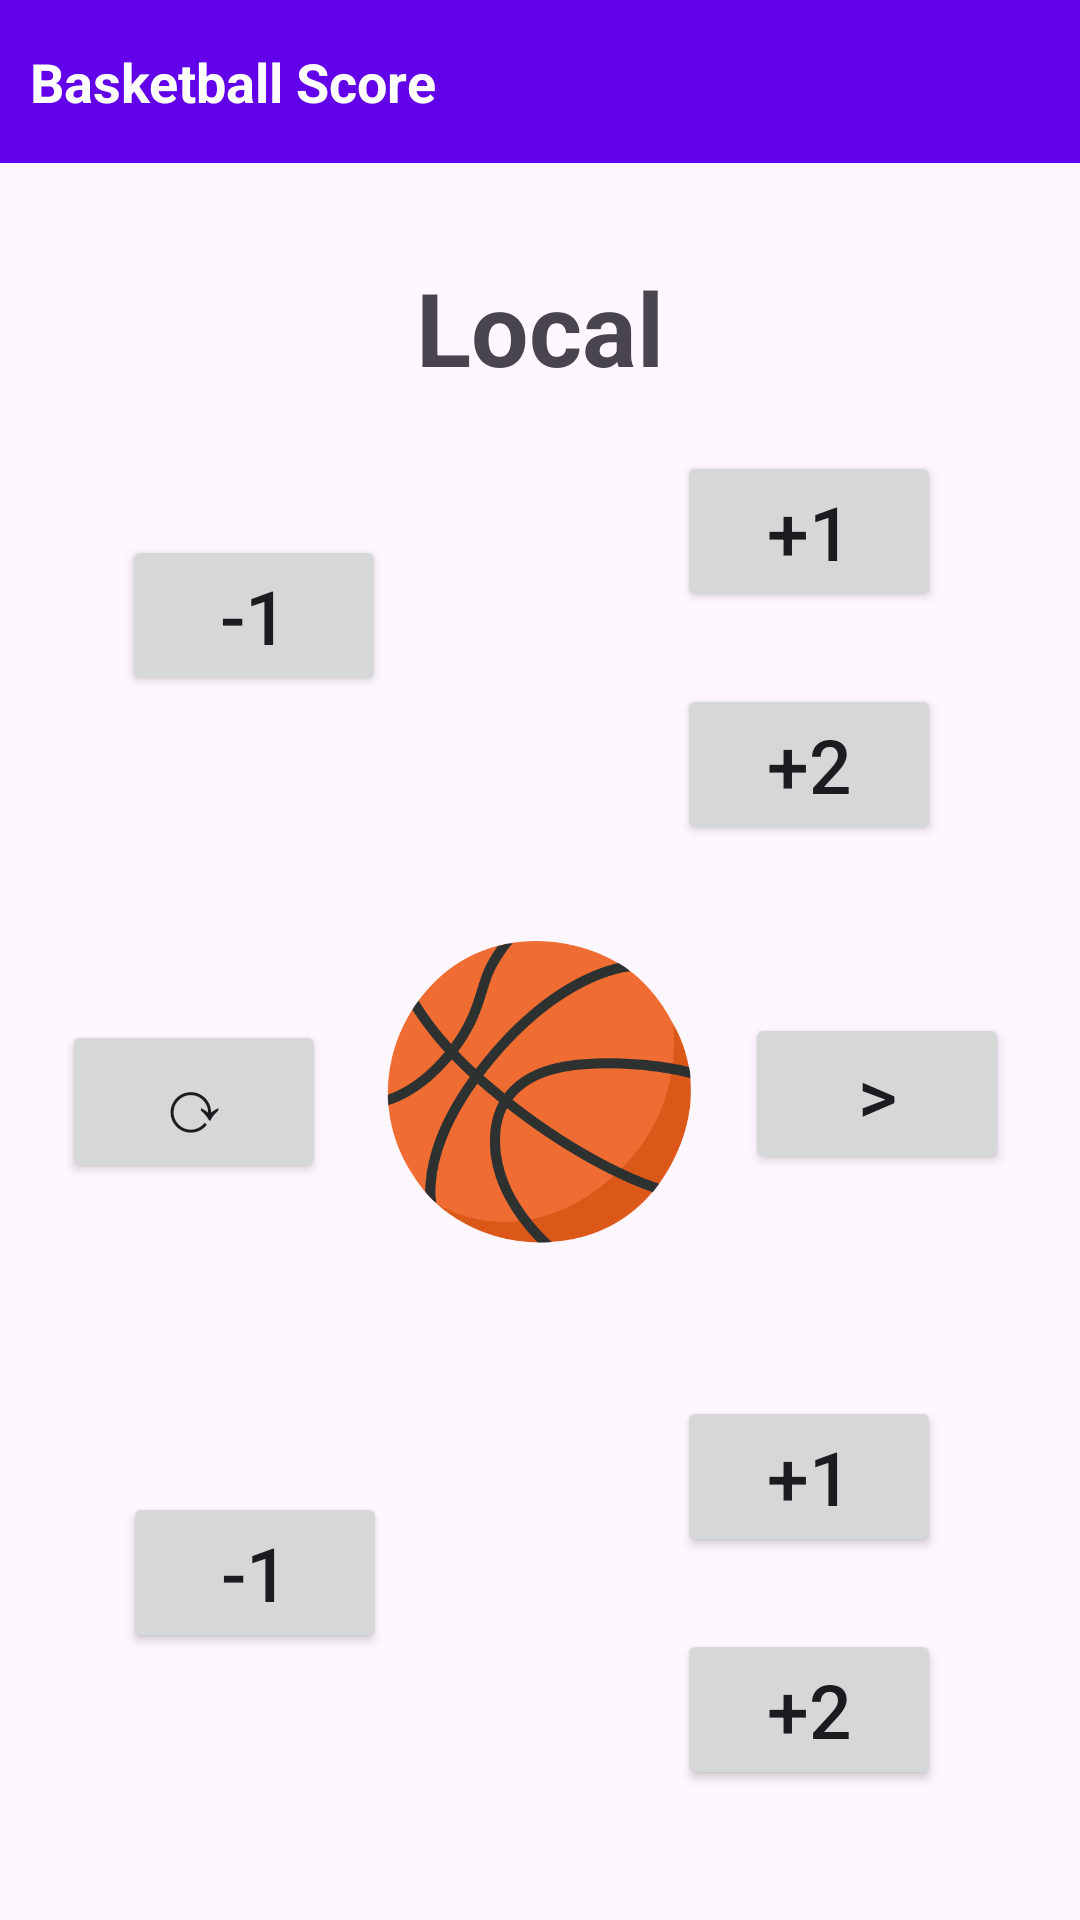

Icons on this 1080×1920 Android screen, each with the point to tap as (x,y):
basketball: (539,1092)
